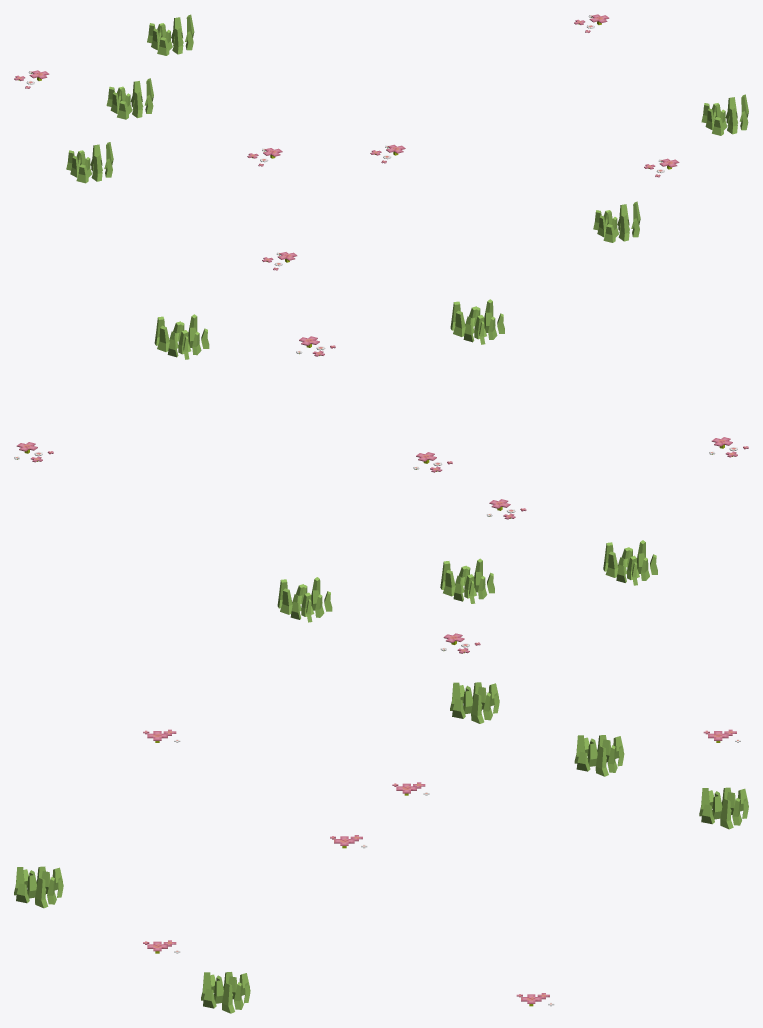
The model's file is flower_grass 13.fbx.
3 views of the same model, one above another, from view 1: azimuth 30°, elevation 25°; view 2: azimuth 150°, elevation 25°; view 3: azimuth 270°, elevation 25° (orthographic). The views are drawn at different scales.
Visible parts, largest first — view 1: Flower_B_4; view 2: Flower_B_4; view 3: Flower_B_4.
Boxes of the visible parts, bbox=[...] form: Flower_B_4: bbox=[14, 14, 748, 270]; Flower_B_4: bbox=[14, 299, 748, 653]; Flower_B_4: bbox=[14, 682, 748, 1013].
Size of the model in its own units: 7146 by 294 by 7079.
Materials: 2 (2 with a texture image).
